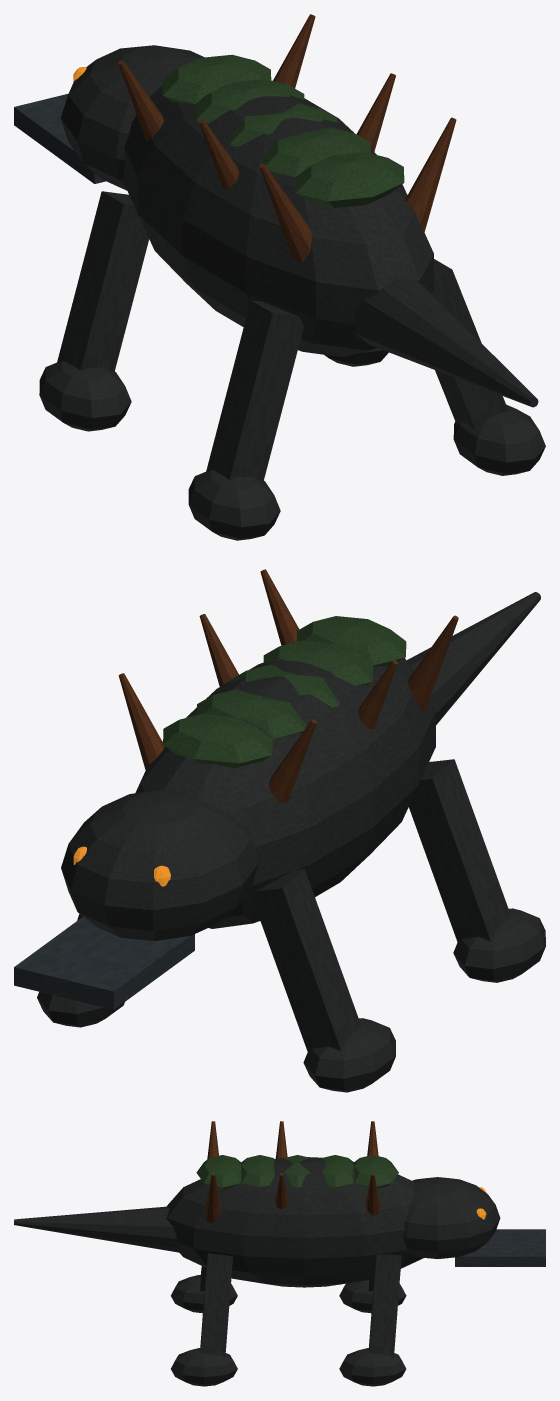
Rendered from SK_Boss_jungle_warden_silhouette.gltf.
3 views of the same model, one above another, from view 1: azimuth 30°, elevation 25°; view 2: azimuth 150°, elevation 25°; view 3: azimuth 270°, elevation 25° (orthographic). The views are drawn at different scales.
Parts seen in each view (by area): view 1: root, tail, jaw; view 2: root, jaw, tail; view 3: root, tail, jaw.
Part boxes in pixels (x1,y1,x2,y2): root: (39,14,545,540); tail: (354,277,538,407); jaw: (14,93,105,183); root: (37,569,545,1092); jaw: (14,916,194,1009); tail: (407,592,540,724); root: (166,1121,500,1386); tail: (14,1206,181,1252); jaw: (455,1229,545,1266).
Bounding box in the file's own units: 1.93 × 1.94 × 4.67.
Materials: 5 (5 with a texture image).
